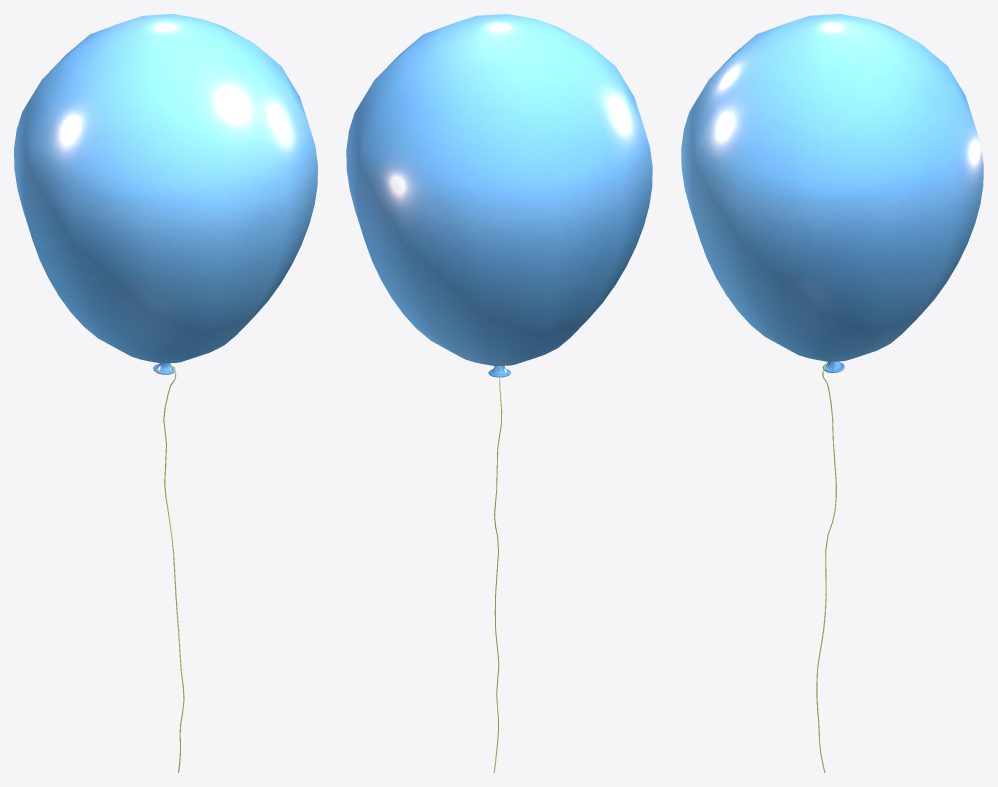
Rendered from balloon2.glb.
3 views of the same model, side by side, from view 1: azimuth 30°, elevation 25°; view 2: azimuth 150°, elevation 25°; view 3: azimuth 270°, elevation 25° (orthographic).
Parts seen in each view (by area): view 1: balloon02; view 2: balloon02; view 3: balloon02.
Boxes of the visible parts, <box> form: balloon02: <box>14,14,317,772</box>; balloon02: <box>346,14,652,772</box>; balloon02: <box>681,14,983,772</box>.
Size of what is drawn, in the model's own units: 6.52 by 17.67 by 6.52.
Materials: 2 (2 with a texture image).
